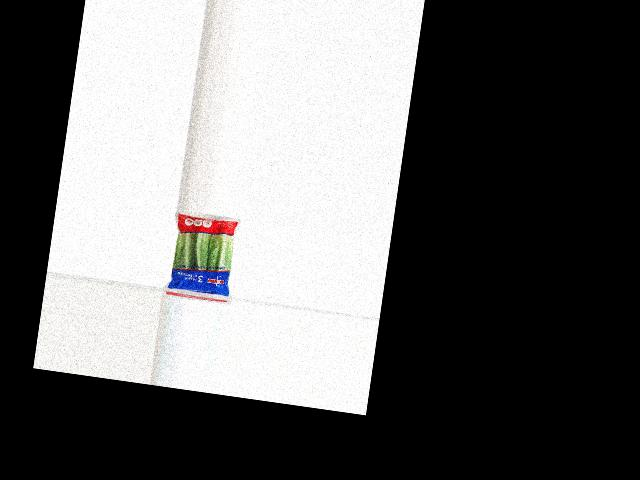lettuce: (166, 209, 240, 298)
